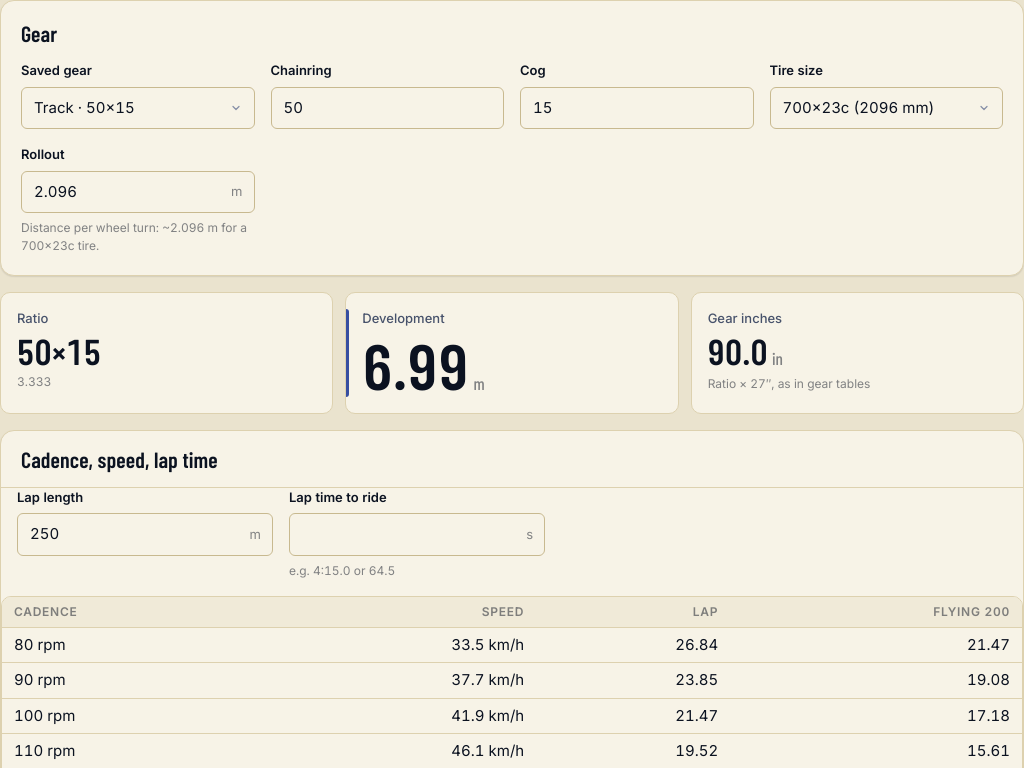
it: GearingTool saved gears › fills the rollout from a standard tire and shows which one a typed rollout is
Expected: the dropdown labelled "Saved gear" is shown, [21,87,254,129]
Select "700×25c (2105 mm)" in the dropdown labelled "Tire size". click: (886, 108)
box: [770,87,1003,129]
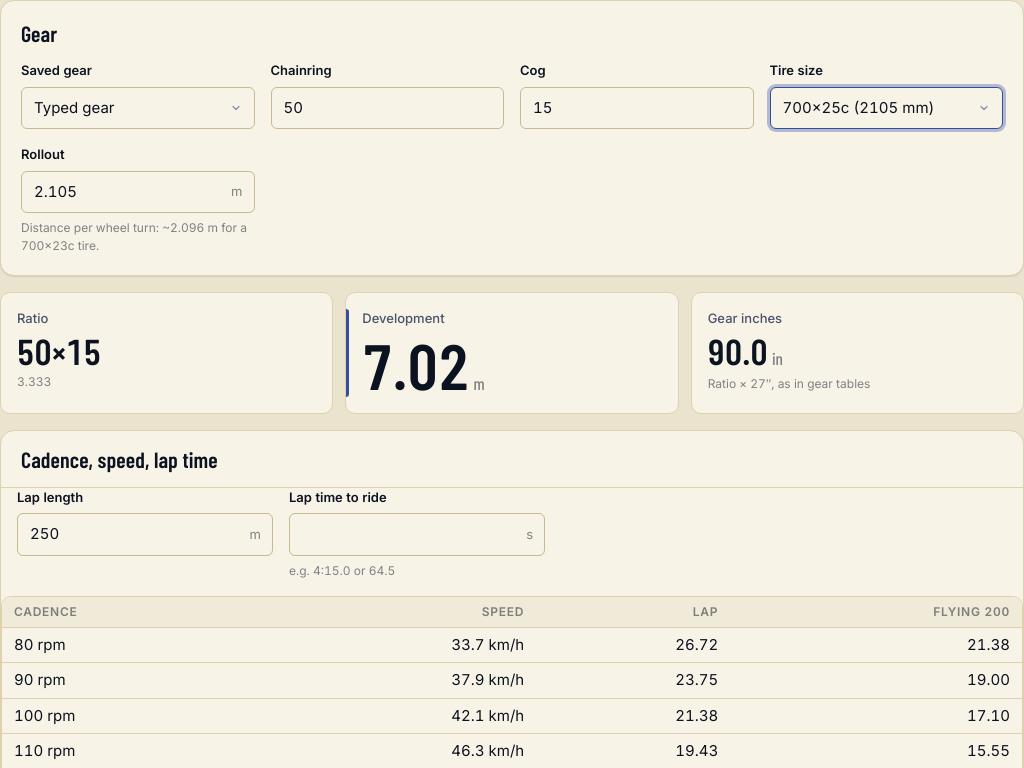
Now the field labelled "Rollout" holds "2.105", box [21,171,254,213]
